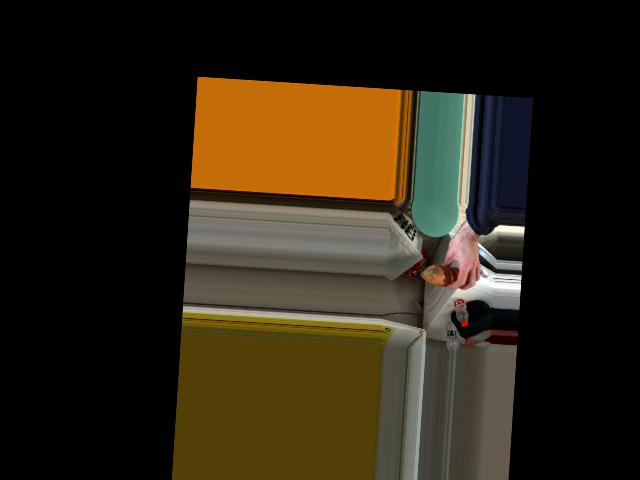sweet_potato: (428, 265, 461, 287)
